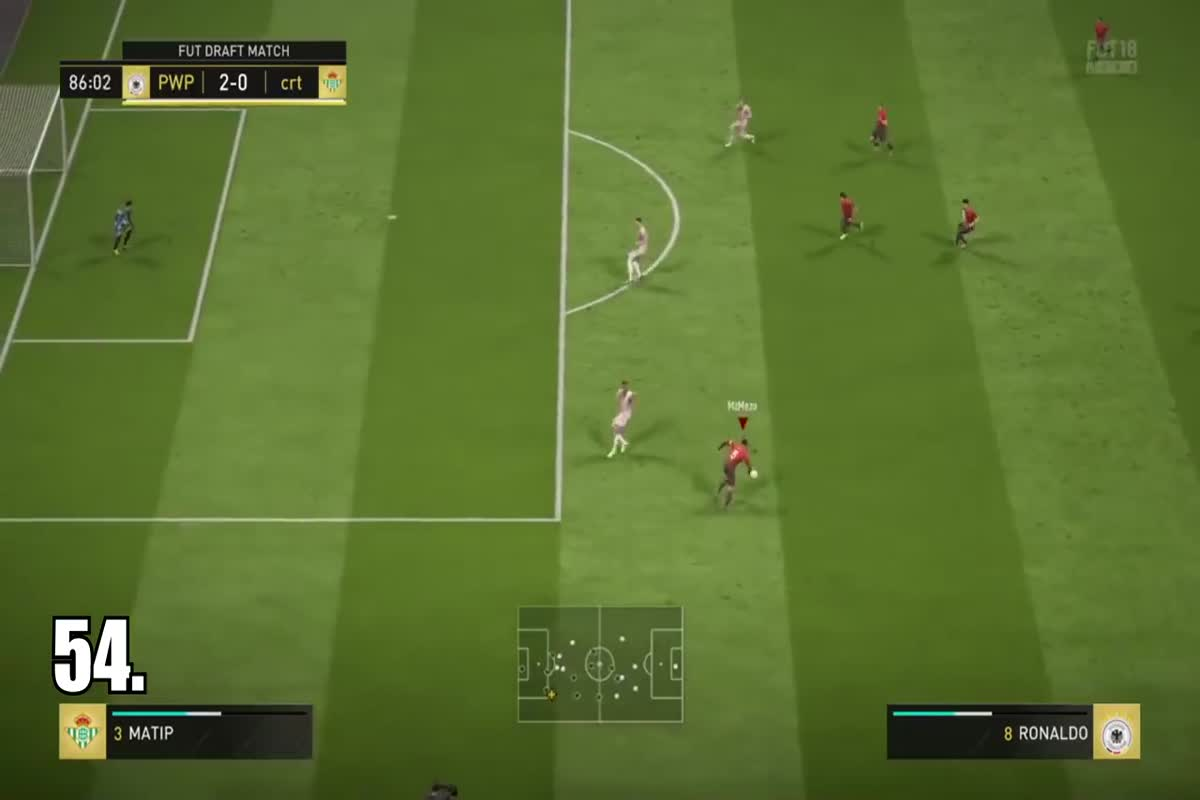ball: (743, 463, 771, 483)
